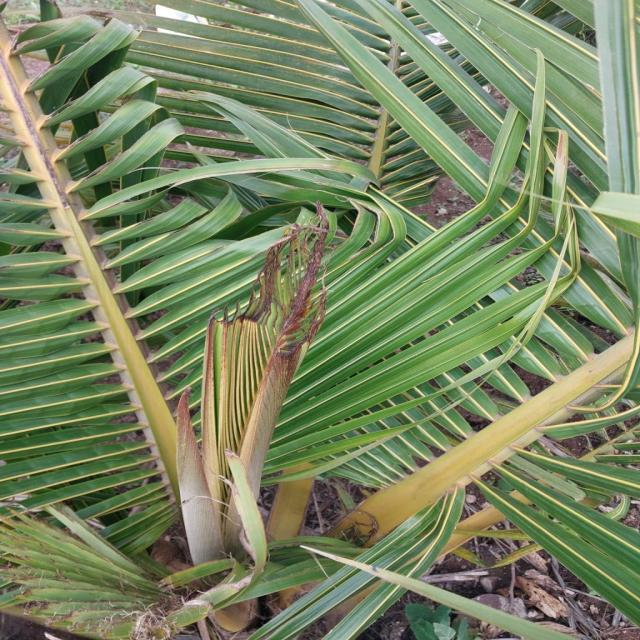bud rot: (177, 206, 328, 563)
